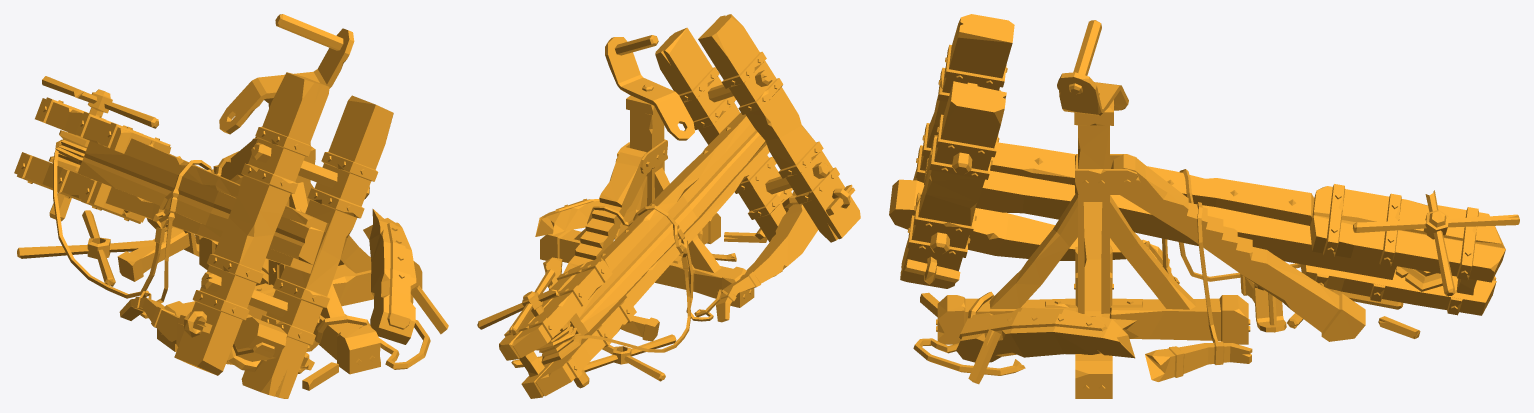
The model's file is SM_Ballista_Broken.fbx.
3 renders of one model, left to right at view 1: azimuth 30°, elevation 25°; view 2: azimuth 150°, elevation 25°; view 3: azimuth 270°, elevation 25°, orthographic. The views are drawn at different scales.
Visible parts, largest first — view 1: ballista-broken; view 2: ballista-broken; view 3: ballista-broken.
Part boxes in pixels (x1,y1,x2,y2): ballista-broken: [14, 14, 448, 398]; ballista-broken: [477, 14, 860, 398]; ballista-broken: [889, 14, 1519, 398].
Size of the model in its own units: 1.21 by 1.16 by 2.1.
